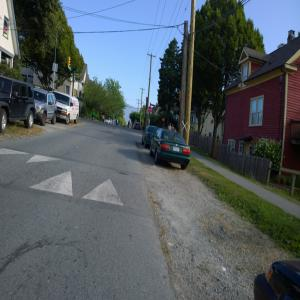Vehicle-registration-plate: (174, 147, 181, 152)
